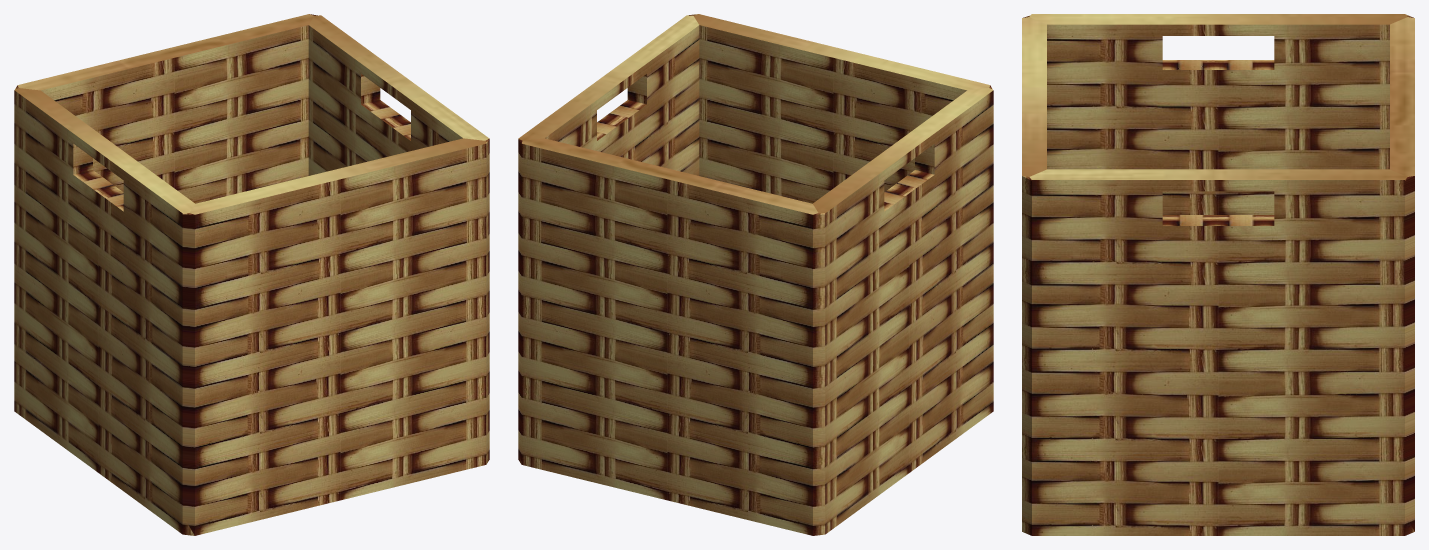
Rendered from wicker basket.fbx.
3 renders of one model, left to right at view 1: azimuth 30°, elevation 25°; view 2: azimuth 150°, elevation 25°; view 3: azimuth 270°, elevation 25°, orthographic. The views are drawn at different scales.
Visible parts, largest first — view 1: Cube; view 2: Cube; view 3: Cube.
Part boxes in pixels (<box>): Cube: <box>14,14,489,535</box>; Cube: <box>518,14,993,535</box>; Cube: <box>1022,14,1414,535</box>.
Bounding box in the file's own units: 200 × 200 × 200.
